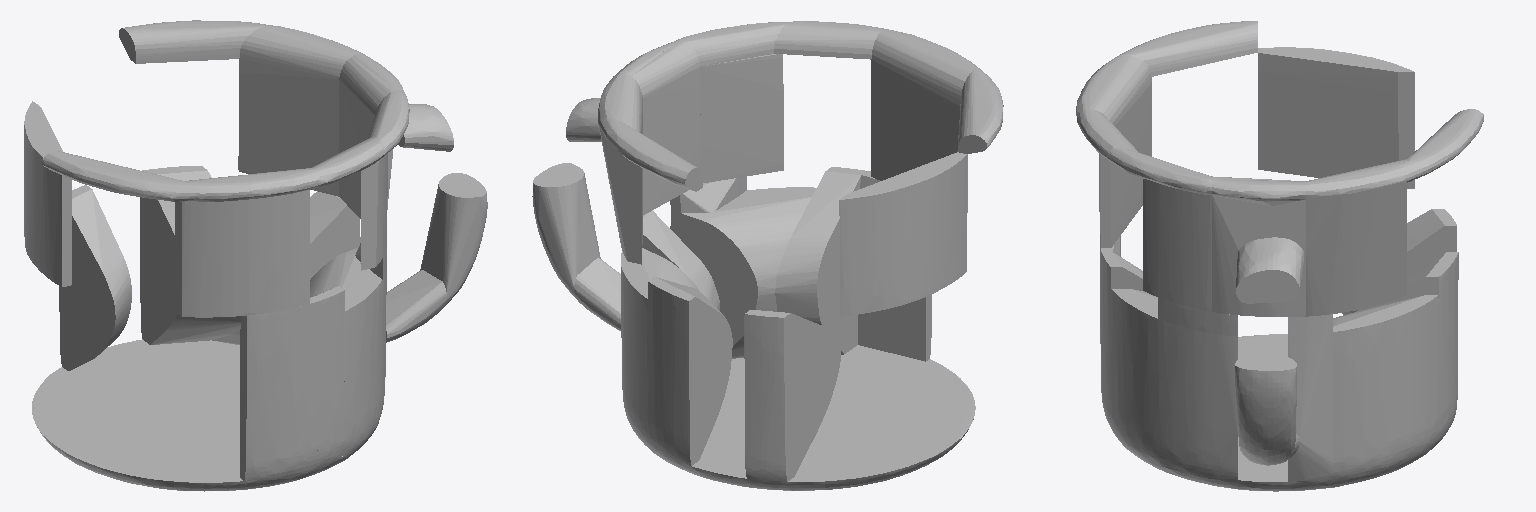
--- What the picture shows (computed from the rendered views, not written in the file) ---
Views: 3 orthographic renders of the robot side by side, from view 1: azimuth 30°, elevation 25°; view 2: azimuth 150°, elevation 25°; view 3: azimuth 270°, elevation 25°.
Model root with 42 links and 41 joints (41 fixed), rooted at link_coacd_convex_piece_0, posed all joints at 0.
Links seen in each view (by area): view 1: link_coacd_convex_piece_4, link_coacd_convex_piece_12, link_coacd_convex_piece_2, link_coacd_convex_piece_27, link_coacd_convex_piece_17, link_coacd_convex_piece_35, link_coacd_convex_piece_36, link_coacd_convex_piece_13, link_coacd_convex_piece_1, link_coacd_convex_piece_9, link_coacd_convex_piece_28, link_coacd_convex_piece_16 (+9 smaller); view 2: link_coacd_convex_piece_4, link_coacd_convex_piece_13, link_coacd_convex_piece_17, link_coacd_convex_piece_36, link_coacd_convex_piece_35, link_coacd_convex_piece_22, link_coacd_convex_piece_28, link_coacd_convex_piece_12, link_coacd_convex_piece_16, link_coacd_convex_piece_1, link_coacd_convex_piece_15, link_coacd_convex_piece_2 (+10 smaller); view 3: link_coacd_convex_piece_35, link_coacd_convex_piece_13, link_coacd_convex_piece_15, link_coacd_convex_piece_2, link_coacd_convex_piece_22, link_coacd_convex_piece_16, link_coacd_convex_piece_31, link_coacd_convex_piece_1, link_coacd_convex_piece_36, link_coacd_convex_piece_12, link_coacd_convex_piece_7, link_coacd_convex_piece_4 (+9 smaller).
Boxes of the visible links, x1,y1,x2,y2 form: link_coacd_convex_piece_4: [32, 339, 378, 491]; link_coacd_convex_piece_12: [175, 190, 309, 317]; link_coacd_convex_piece_2: [238, 26, 364, 196]; link_coacd_convex_piece_27: [240, 297, 317, 480]; link_coacd_convex_piece_17: [59, 185, 131, 370]; link_coacd_convex_piece_35: [310, 248, 386, 455]; link_coacd_convex_piece_36: [140, 166, 240, 344]; link_coacd_convex_piece_13: [24, 101, 71, 286]; link_coacd_convex_piece_1: [420, 173, 487, 305]; link_coacd_convex_piece_9: [119, 20, 272, 63]; link_coacd_convex_piece_28: [313, 286, 344, 466]; link_coacd_convex_piece_16: [339, 58, 396, 218]; link_coacd_convex_piece_4: [632, 345, 975, 490]; link_coacd_convex_piece_13: [839, 152, 966, 316]; link_coacd_convex_piece_17: [744, 310, 840, 481]; link_coacd_convex_piece_36: [648, 277, 732, 466]; link_coacd_convex_piece_35: [670, 187, 815, 358]; link_coacd_convex_piece_22: [700, 54, 783, 182]; link_coacd_convex_piece_28: [775, 167, 866, 354]; link_coacd_convex_piece_12: [871, 59, 967, 212]; link_coacd_convex_piece_16: [631, 41, 700, 214]; link_coacd_convex_piece_1: [532, 163, 600, 296]; link_coacd_convex_piece_15: [621, 248, 700, 445]; link_coacd_convex_piece_2: [598, 72, 642, 264]; link_coacd_convex_piece_35: [1111, 289, 1237, 480]; link_coacd_convex_piece_13: [1258, 47, 1414, 188]; link_coacd_convex_piece_15: [1333, 295, 1438, 478]; link_coacd_convex_piece_2: [1306, 159, 1406, 316]; link_coacd_convex_piece_22: [1143, 179, 1211, 311]; link_coacd_convex_piece_16: [1212, 176, 1305, 316]; link_coacd_convex_piece_31: [1288, 314, 1332, 481]; link_coacd_convex_piece_1: [1235, 353, 1296, 464]; link_coacd_convex_piece_36: [1356, 252, 1458, 443]; link_coacd_convex_piece_12: [1099, 77, 1151, 247]; link_coacd_convex_piece_7: [1119, 21, 1257, 76]; link_coacd_convex_piece_4: [1113, 334, 1451, 491].
Bounding box of the posed robot: 0.1176 × 0.0938 × 0.0824 m (x, y, z).
23 mesh visuals loaded from 42 distinct referenced files (23 OBJ); not drawn: 19 (reference not matched to a file when rendering).

robot.urdf — root:
<robot name="root">
  <link name="link_coacd_convex_piece_0">
    <inertial>
      <origin xyz="0 0 0" rpy="0 0 0"/>
      <inertia ixx="3.00E-10" ixy="9.89E-11" ixz="8.61E-10" iyy="1.54E-09" iyz="-4.27E-11" izz="1.27E-09"/>
    </inertial>
    <visual>
      <origin xyz="0 0 0" rpy="0 0 0"/>
      <geometry>
        <mesh filename="coacd_convex_piece_0.obj" scale="1.0000E+00 1.0000E+00 1.0000E+00"/>
      </geometry>
      <material name="">
        <color rgba="7.50E-01 7.50E-01 7.50E-01 1"/>
      </material>
    </visual>
    <collision>
      <origin xyz="0 0 0" rpy="0 0 0"/>
      <geometry>
        <mesh filename="coacd_convex_piece_0.obj" scale="1.0000E+00 1.0000E+00 1.0000E+00"/>
      </geometry>
    </collision>
  </link>
  <link name="link_coacd_convex_piece_1">
    <inertial>
      <origin xyz="0 0 0" rpy="0 0 0"/>
      <inertia ixx="-1.17E-10" ixy="3.14E-10" ixz="8.11E-10" iyy="4.69E-09" iyz="-1.59E-11" izz="4.89E-09"/>
    </inertial>
    <visual>
      <origin xyz="0 0 0" rpy="0 0 0"/>
      <geometry>
        <mesh filename="coacd_convex_piece_1.obj" scale="1.0000E+00 1.0000E+00 1.0000E+00"/>
      </geometry>
      <material name="">
        <color rgba="7.50E-01 7.50E-01 7.50E-01 1"/>
      </material>
    </visual>
    <collision>
      <origin xyz="0 0 0" rpy="0 0 0"/>
      <geometry>
        <mesh filename="coacd_convex_piece_1.obj" scale="1.0000E+00 1.0000E+00 1.0000E+00"/>
      </geometry>
    </collision>
  </link>
  <joint name="link_coacd_convex_piece_1_joint" type="fixed">
    <origin xyz="0 0 0" rpy="0 0 0"/>
    <parent link="link_coacd_convex_piece_0"/>
    <child link="link_coacd_convex_piece_1"/>
  </joint>
  <link name="link_coacd_convex_piece_2">
    <inertial>
      <origin xyz="0 0 0" rpy="0 0 0"/>
      <inertia ixx="3.77E-09" ixy="-1.67E-09" ixz="-1.97E-09" iyy="4.28E-09" iyz="-1.82E-09" izz="3.54E-09"/>
    </inertial>
    <visual>
      <origin xyz="0 0 0" rpy="0 0 0"/>
      <geometry>
        <mesh filename="coacd_convex_piece_2.obj" scale="1.0000E+00 1.0000E+00 1.0000E+00"/>
      </geometry>
      <material name="">
        <color rgba="7.50E-01 7.50E-01 7.50E-01 1"/>
      </material>
    </visual>
    <collision>
      <origin xyz="0 0 0" rpy="0 0 0"/>
      <geometry>
        <mesh filename="coacd_convex_piece_2.obj" scale="1.0000E+00 1.0000E+00 1.0000E+00"/>
      </geometry>
    </collision>
  </link>
  <joint name="link_coacd_convex_piece_2_joint" type="fixed">
    <origin xyz="0 0 0" rpy="0 0 0"/>
    <parent link="link_coacd_convex_piece_1"/>
    <child link="link_coacd_convex_piece_2"/>
  </joint>
  <link name="link_coacd_convex_piece_3">
    <inertial>
      <origin xyz="0 0 0" rpy="0 0 0"/>
      <inertia ixx="1.20E-08" ixy="5.54E-09" ixz="4.61E-09" iyy="6.96E-09" iyz="-5.71E-09" izz="1.22E-08"/>
    </inertial>
    <visual>
      <origin xyz="0 0 0" rpy="0 0 0"/>
      <geometry>
        <mesh filename="coacd_convex_piece_3.obj" scale="1.0000E+00 1.0000E+00 1.0000E+00"/>
      </geometry>
      <material name="">
        <color rgba="7.50E-01 7.50E-01 7.50E-01 1"/>
      </material>
    </visual>
    <collision>
      <origin xyz="0 0 0" rpy="0 0 0"/>
      <geometry>
        <mesh filename="coacd_convex_piece_3.obj" scale="1.0000E+00 1.0000E+00 1.0000E+00"/>
      </geometry>
    </collision>
  </link>
  <joint name="link_coacd_convex_piece_3_joint" type="fixed">
    <origin xyz="0 0 0" rpy="0 0 0"/>
    <parent link="link_coacd_convex_piece_2"/>
    <child link="link_coacd_convex_piece_3"/>
  </joint>
  <link name="link_coacd_convex_piece_4">
    <inertial>
      <origin xyz="0 0 0" rpy="0 0 0"/>
      <inertia ixx="2.31E-08" ixy="1.20E-10" ixz="-4.33E-09" iyy="2.35E-08" iyz="1.47E-10" izz="1.06E-08"/>
    </inertial>
    <visual>
      <origin xyz="0 0 0" rpy="0 0 0"/>
      <geometry>
        <mesh filename="coacd_convex_piece_4.obj" scale="1.0000E+00 1.0000E+00 1.0000E+00"/>
      </geometry>
      <material name="">
        <color rgba="7.50E-01 7.50E-01 7.50E-01 1"/>
      </material>
    </visual>
    <collision>
      <origin xyz="0 0 0" rpy="0 0 0"/>
      <geometry>
        <mesh filename="coacd_convex_piece_4.obj" scale="1.0000E+00 1.0000E+00 1.0000E+00"/>
      </geometry>
    </collision>
  </link>
  <joint name="link_coacd_convex_piece_4_joint" type="fixed">
    <origin xyz="0 0 0" rpy="0 0 0"/>
    <parent link="link_coacd_convex_piece_3"/>
    <child link="link_coacd_convex_piece_4"/>
  </joint>
  <link name="link_coacd_convex_piece_5">
    <inertial>
      <origin xyz="0 0 0" rpy="0 0 0"/>
      <inertia ixx="1.71E-10" ixy="-1.49E-10" ixz="2.52E-11" iyy="3.42E-11" iyz="-2.83E-11" izz="3.24E-10"/>
    </inertial>
    <visual>
      <origin xyz="0 0 0" rpy="0 0 0"/>
      <geometry>
        <mesh filename="coacd_convex_piece_5.obj" scale="1.0000E+00 1.0000E+00 1.0000E+00"/>
      </geometry>
      <material name="">
        <color rgba="7.50E-01 7.50E-01 7.50E-01 1"/>
      </material>
    </visual>
    <collision>
      <origin xyz="0 0 0" rpy="0 0 0"/>
      <geometry>
        <mesh filename="coacd_convex_piece_5.obj" scale="1.0000E+00 1.0000E+00 1.0000E+00"/>
      </geometry>
    </collision>
  </link>
  <joint name="link_coacd_convex_piece_5_joint" type="fixed">
    <origin xyz="0 0 0" rpy="0 0 0"/>
    <parent link="link_coacd_convex_piece_4"/>
    <child link="link_coacd_convex_piece_5"/>
  </joint>
  <link name="link_coacd_convex_piece_6">
    <inertial>
      <origin xyz="0 0 0" rpy="0 0 0"/>
      <inertia ixx="2.98E-09" ixy="-2.11E-10" ixz="1.03E-10" iyy="4.88E-10" iyz="-1.34E-09" izz="2.33E-09"/>
    </inertial>
    <visual>
      <origin xyz="0 0 0" rpy="0 0 0"/>
      <geometry>
        <mesh filename="coacd_convex_piece_6.obj" scale="1.0000E+00 1.0000E+00 1.0000E+00"/>
      </geometry>
      <material name="">
        <color rgba="7.50E-01 7.50E-01 7.50E-01 1"/>
      </material>
    </visual>
    <collision>
      <origin xyz="0 0 0" rpy="0 0 0"/>
      <geometry>
        <mesh filename="coacd_convex_piece_6.obj" scale="1.0000E+00 1.0000E+00 1.0000E+00"/>
      </geometry>
    </collision>
  </link>
  <joint name="link_coacd_convex_piece_6_joint" type="fixed">
    <origin xyz="0 0 0" rpy="0 0 0"/>
    <parent link="link_coacd_convex_piece_5"/>
    <child link="link_coacd_convex_piece_6"/>
  </joint>
  <link name="link_coacd_convex_piece_7">
    <inertial>
      <origin xyz="0 0 0" rpy="0 0 0"/>
      <inertia ixx="1.55E-09" ixy="-8.05E-10" ixz="1.68E-09" iyy="2.99E-09" iyz="6.91E-10" izz="2.29E-09"/>
    </inertial>
    <visual>
      <origin xyz="0 0 0" rpy="0 0 0"/>
      <geometry>
        <mesh filename="coacd_convex_piece_7.obj" scale="1.0000E+00 1.0000E+00 1.0000E+00"/>
      </geometry>
      <material name="">
        <color rgba="7.50E-01 7.50E-01 7.50E-01 1"/>
      </material>
    </visual>
    <collision>
      <origin xyz="0 0 0" rpy="0 0 0"/>
      <geometry>
        <mesh filename="coacd_convex_piece_7.obj" scale="1.0000E+00 1.0000E+00 1.0000E+00"/>
      </geometry>
    </collision>
  </link>
  <joint name="link_coacd_convex_piece_7_joint" type="fixed">
    <origin xyz="0 0 0" rpy="0 0 0"/>
    <parent link="link_coacd_convex_piece_6"/>
    <child link="link_coacd_convex_piece_7"/>
  </joint>
  <link name="link_coacd_convex_piece_8">
    <inertial>
      <origin xyz="0 0 0" rpy="0 0 0"/>
      <inertia ixx="1.74E-09" ixy="-1.96E-09" ixz="2.60E-09" iyy="5.62E-09" iyz="9.51E-10" izz="5.78E-09"/>
    </inertial>
    <visual>
      <origin xyz="0 0 0" rpy="0 0 0"/>
      <geometry>
        <mesh filename="coacd_convex_piece_8.obj" scale="1.0000E+00 1.0000E+00 1.0000E+00"/>
      </geometry>
      <material name="">
        <color rgba="7.50E-01 7.50E-01 7.50E-01 1"/>
      </material>
    </visual>
    <collision>
      <origin xyz="0 0 0" rpy="0 0 0"/>
      <geometry>
        <mesh filename="coacd_convex_piece_8.obj" scale="1.0000E+00 1.0000E+00 1.0000E+00"/>
      </geometry>
    </collision>
  </link>
  <joint name="link_coacd_convex_piece_8_joint" type="fixed">
    <origin xyz="0 0 0" rpy="0 0 0"/>
    <parent link="link_coacd_convex_piece_7"/>
    <child link="link_coacd_convex_piece_8"/>
  </joint>
  <link name="link_coacd_convex_piece_9">
    <inertial>
      <origin xyz="0 0 0" rpy="0 0 0"/>
      <inertia ixx="2.33E-09" ixy="-1.65E-10" ixz="-8.42E-11" iyy="1.11E-09" iyz="-1.23E-09" izz="1.22E-09"/>
    </inertial>
    <visual>
      <origin xyz="0 0 0" rpy="0 0 0"/>
      <geometry>
        <mesh filename="coacd_convex_piece_9.obj" scale="1.0000E+00 1.0000E+00 1.0000E+00"/>
      </geometry>
      <material name="">
        <color rgba="7.50E-01 7.50E-01 7.50E-01 1"/>
      </material>
    </visual>
    <collision>
      <origin xyz="0 0 0" rpy="0 0 0"/>
      <geometry>
        <mesh filename="coacd_convex_piece_9.obj" scale="1.0000E+00 1.0000E+00 1.0000E+00"/>
      </geometry>
    </collision>
  </link>
  <joint name="link_coacd_convex_piece_9_joint" type="fixed">
    <origin xyz="0 0 0" rpy="0 0 0"/>
    <parent link="link_coacd_convex_piece_8"/>
    <child link="link_coacd_convex_piece_9"/>
  </joint>
  <link name="link_coacd_convex_piece_10">
    <inertial>
      <origin xyz="0 0 0" rpy="0 0 0"/>
      <inertia ixx="2.28E-09" ixy="-7.06E-10" ixz="8.14E-10" iyy="1.43E-09" iyz="1.21E-09" izz="1.64E-09"/>
    </inertial>
    <visual>
      <origin xyz="0 0 0" rpy="0 0 0"/>
      <geometry>
        <mesh filename="coacd_convex_piece_10.obj" scale="1.0000E+00 1.0000E+00 1.0000E+00"/>
      </geometry>
      <material name="">
        <color rgba="7.50E-01 7.50E-01 7.50E-01 1"/>
      </material>
    </visual>
    <collision>
      <origin xyz="0 0 0" rpy="0 0 0"/>
      <geometry>
        <mesh filename="coacd_convex_piece_10.obj" scale="1.0000E+00 1.0000E+00 1.0000E+00"/>
      </geometry>
    </collision>
  </link>
  <joint name="link_coacd_convex_piece_10_joint" type="fixed">
    <origin xyz="0 0 0" rpy="0 0 0"/>
    <parent link="link_coacd_convex_piece_9"/>
    <child link="link_coacd_convex_piece_10"/>
  </joint>
  <link name="link_coacd_convex_piece_11">
    <inertial>
      <origin xyz="0 0 0" rpy="0 0 0"/>
      <inertia ixx="1.85E-09" ixy="7.76E-10" ixz="2.34E-09" iyy="4.22E-09" iyz="-6.17E-10" izz="3.08E-09"/>
    </inertial>
    <visual>
      <origin xyz="0 0 0" rpy="0 0 0"/>
      <geometry>
        <mesh filename="coacd_convex_piece_11.obj" scale="1.0000E+00 1.0000E+00 1.0000E+00"/>
      </geometry>
      <material name="">
        <color rgba="7.50E-01 7.50E-01 7.50E-01 1"/>
      </material>
    </visual>
    <collision>
      <origin xyz="0 0 0" rpy="0 0 0"/>
      <geometry>
        <mesh filename="coacd_convex_piece_11.obj" scale="1.0000E+00 1.0000E+00 1.0000E+00"/>
      </geometry>
    </collision>
  </link>
  <joint name="link_coacd_convex_piece_11_joint" type="fixed">
    <origin xyz="0 0 0" rpy="0 0 0"/>
    <parent link="link_coacd_convex_piece_10"/>
    <child link="link_coacd_convex_piece_11"/>
  </joint>
  <link name="link_coacd_convex_piece_12">
    <inertial>
      <origin xyz="0 0 0" rpy="0 0 0"/>
      <inertia ixx="4.59E-09" ixy="-2.25E-09" ixz="1.69E-09" iyy="2.27E-09" iyz="2.11E-09" izz="5.03E-09"/>
    </inertial>
    <visual>
      <origin xyz="0 0 0" rpy="0 0 0"/>
      <geometry>
        <mesh filename="coacd_convex_piece_12.obj" scale="1.0000E+00 1.0000E+00 1.0000E+00"/>
      </geometry>
      <material name="">
        <color rgba="7.50E-01 7.50E-01 7.50E-01 1"/>
      </material>
    </visual>
    <collision>
      <origin xyz="0 0 0" rpy="0 0 0"/>
      <geometry>
        <mesh filename="coacd_convex_piece_12.obj" scale="1.0000E+00 1.0000E+00 1.0000E+00"/>
      </geometry>
    </collision>
  </link>
  <joint name="link_coacd_convex_piece_12_joint" type="fixed">
    <origin xyz="0 0 0" rpy="0 0 0"/>
    <parent link="link_coacd_convex_piece_11"/>
    <child link="link_coacd_convex_piece_12"/>
  </joint>
  <link name="link_coacd_convex_piece_13">
    <inertial>
      <origin xyz="0 0 0" rpy="0 0 0"/>
      <inertia ixx="2.02E-09" ixy="2.07E-09" ixz="4.03E-09" iyy="9.04E-09" iyz="-8.90E-10" izz="8.70E-09"/>
    </inertial>
    <visual>
      <origin xyz="0 0 0" rpy="0 0 0"/>
      <geometry>
        <mesh filename="coacd_convex_piece_13.obj" scale="1.0000E+00 1.0000E+00 1.0000E+00"/>
      </geometry>
      <material name="">
        <color rgba="7.50E-01 7.50E-01 7.50E-01 1"/>
      </material>
    </visual>
    <collision>
      <origin xyz="0 0 0" rpy="0 0 0"/>
      <geometry>
        <mesh filename="coacd_convex_piece_13.obj" scale="1.0000E+00 1.0000E+00 1.0000E+00"/>
      </geometry>
    </collision>
  </link>
  <joint name="link_coacd_convex_piece_13_joint" type="fixed">
    <origin xyz="0 0 0" rpy="0 0 0"/>
    <parent link="link_coacd_convex_piece_12"/>
    <child link="link_coacd_convex_piece_13"/>
  </joint>
  <link name="link_coacd_convex_piece_14">
    <inertial>
      <origin xyz="0 0 0" rpy="0 0 0"/>
      <inertia ixx="9.95E-10" ixy="3.22E-10" ixz="1.78E-09" iyy="1.83E-09" iyz="-2.56E-10" izz="1.06E-09"/>
    </inertial>
    <visual>
      <origin xyz="0 0 0" rpy="0 0 0"/>
      <geometry>
        <mesh filename="coacd_convex_piece_14.obj" scale="1.0000E+00 1.0000E+00 1.0000E+00"/>
      </geometry>
      <material name="">
        <color rgba="7.50E-01 7.50E-01 7.50E-01 1"/>
      </material>
    </visual>
    <collision>
      <origin xyz="0 0 0" rpy="0 0 0"/>
      <geometry>
        <mesh filename="coacd_convex_piece_14.obj" scale="1.0000E+00 1.0000E+00 1.0000E+00"/>
      </geometry>
    </collision>
  </link>
  <joint name="link_coacd_convex_piece_14_joint" type="fixed">
    <origin xyz="0 0 0" rpy="0 0 0"/>
    <parent link="link_coacd_convex_piece_13"/>
    <child link="link_coacd_convex_piece_14"/>
  </joint>
  <link name="link_coacd_convex_piece_15">
    <inertial>
      <origin xyz="0 0 0" rpy="0 0 0"/>
      <inertia ixx="4.98E-09" ixy="-2.15E-09" ixz="2.76E-09" iyy="2.73E-09" iyz="2.61E-09" izz="4.56E-09"/>
    </inertial>
    <visual>
      <origin xyz="0 0 0" rpy="0 0 0"/>
      <geometry>
        <mesh filename="coacd_convex_piece_15.obj" scale="1.0000E+00 1.0000E+00 1.0000E+00"/>
      </geometry>
      <material name="">
        <color rgba="7.50E-01 7.50E-01 7.50E-01 1"/>
      </material>
    </visual>
    <collision>
      <origin xyz="0 0 0" rpy="0 0 0"/>
      <geometry>
        <mesh filename="coacd_convex_piece_15.obj" scale="1.0000E+00 1.0000E+00 1.0000E+00"/>
      </geometry>
    </collision>
  </link>
  <joint name="link_coacd_convex_piece_15_joint" type="fixed">
    <origin xyz="0 0 0" rpy="0 0 0"/>
    <parent link="link_coacd_convex_piece_14"/>
    <child link="link_coacd_convex_piece_15"/>
  </joint>
  <link name="link_coacd_convex_piece_16">
    <inertial>
      <origin xyz="0 0 0" rpy="0 0 0"/>
      <inertia ixx="1.04E-09" ixy="3.21E-10" ixz="-1.00E-09" iyy="2.20E-09" iyz="2.92E-10" izz="1.43E-09"/>
    </inertial>
    <visual>
      <origin xyz="0 0 0" rpy="0 0 0"/>
      <geometry>
        <mesh filename="coacd_convex_piece_16.obj" scale="1.0000E+00 1.0000E+00 1.0000E+00"/>
      </geometry>
      <material name="">
        <color rgba="7.50E-01 7.50E-01 7.50E-01 1"/>
      </material>
    </visual>
    <collision>
      <origin xyz="0 0 0" rpy="0 0 0"/>
      <geometry>
        <mesh filename="coacd_convex_piece_16.obj" scale="1.0000E+00 1.0000E+00 1.0000E+00"/>
      </geometry>
    </collision>
  </link>
  <joint name="link_coacd_convex_piece_16_joint" type="fixed">
    <origin xyz="0 0 0" rpy="0 0 0"/>
    <parent link="link_coacd_convex_piece_15"/>
    <child link="link_coacd_convex_piece_16"/>
  </joint>
  <link name="link_coacd_convex_piece_17">
    <inertial>
      <origin xyz="0 0 0" rpy="0 0 0"/>
      <inertia ixx="4.31E-09" ixy="2.97E-09" ixz="-9.85E-10" iyy="2.72E-09" iyz="1.84E-09" izz="5.80E-09"/>
    </inertial>
    <visual>
      <origin xyz="0 0 0" rpy="0 0 0"/>
      <geometry>
        <mesh filename="coacd_convex_piece_17.obj" scale="1.0000E+00 1.0000E+00 1.0000E+00"/>
      </geometry>
      <material name="">
        <color rgba="7.50E-01 7.50E-01 7.50E-01 1"/>
      </material>
    </visual>
    <collision>
      <origin xyz="0 0 0" rpy="0 0 0"/>
      <geometry>
        <mesh filename="coacd_convex_piece_17.obj" scale="1.0000E+00 1.0000E+00 1.0000E+00"/>
      </geometry>
    </collision>
  </link>
  <joint name="link_coacd_convex_piece_17_joint" type="fixed">
    <origin xyz="0 0 0" rpy="0 0 0"/>
    <parent link="link_coacd_convex_piece_16"/>
    <child link="link_coacd_convex_piece_17"/>
  </joint>
  <link name="link_coacd_convex_piece_18">
    <inertial>
      <origin xyz="0 0 0" rpy="0 0 0"/>
      <inertia ixx="1.43E-09" ixy="4.83E-11" ixz="1.71E-11" iyy="6.21E-10" iyz="7.63E-10" izz="7.53E-10"/>
    </inertial>
    <visual>
      <origin xyz="0 0 0" rpy="0 0 0"/>
      <geometry>
        <mesh filename="coacd_convex_piece_18.obj" scale="1.0000E+00 1.0000E+00 1.0000E+00"/>
      </geometry>
      <material name="">
        <color rgba="7.50E-01 7.50E-01 7.50E-01 1"/>
      </material>
    </visual>
    <collision>
      <origin xyz="0 0 0" rpy="0 0 0"/>
      <geometry>
        <mesh filename="coacd_convex_piece_18.obj" scale="1.0000E+00 1.0000E+00 1.0000E+00"/>
      </geometry>
    </collision>
  </link>
  <joint name="link_coacd_convex_piece_18_joint" type="fixed">
    <origin xyz="0 0 0" rpy="0 0 0"/>
    <parent link="link_coacd_convex_piece_17"/>
    <child link="link_coacd_convex_piece_18"/>
  </joint>
  <link name="link_coacd_convex_piece_19">
    <inertial>
      <origin xyz="0 0 0" rpy="0 0 0"/>
      <inertia ixx="2.03E-09" ixy="-2.63E-09" ixz="-3.72E-09" iyy="1.31E-08" iyz="-9.77E-10" izz="1.25E-08"/>
    </inertial>
    <visual>
      <origin xyz="0 0 0" rpy="0 0 0"/>
      <geometry>
        <mesh filename="coacd_convex_piece_19.obj" scale="1.0000E+00 1.0000E+00 1.0000E+00"/>
      </geometry>
      <material name="">
        <color rgba="7.50E-01 7.50E-01 7.50E-01 1"/>
      </material>
    </visual>
    <collision>
      <origin xyz="0 0 0" rpy="0 0 0"/>
      <geometry>
        <mesh filename="coacd_convex_piece_19.obj" scale="1.0000E+00 1.0000E+00 1.0000E+00"/>
      </geometry>
    </collision>
  </link>
  <joint name="link_coacd_convex_piece_19_joint" type="fixed">
    <origin xyz="0 0 0" rpy="0 0 0"/>
    <parent link="link_coacd_convex_piece_18"/>
    <child link="link_coacd_convex_piece_19"/>
  </joint>
  <link name="link_coacd_convex_piece_20">
    <inertial>
      <origin xyz="0 0 0" rpy="0 0 0"/>
      <inertia ixx="1.03E-09" ixy="2.76E-10" ixz="-3.49E-10" iyy="8.51E-10" iyz="5.16E-10" izz="5.55E-10"/>
    </inertial>
    <visual>
      <origin xyz="0 0 0" rpy="0 0 0"/>
      <geometry>
        <mesh filename="coacd_convex_piece_20.obj" scale="1.0000E+00 1.0000E+00 1.0000E+00"/>
      </geometry>
      <material name="">
        <color rgba="7.50E-01 7.50E-01 7.50E-01 1"/>
      </material>
    </visual>
    <collision>
      <origin xyz="0 0 0" rpy="0 0 0"/>
      <geometry>
        <mesh filename="coacd_convex_piece_20.obj" scale="1.0000E+00 1.0000E+00 1.0000E+00"/>
      </geometry>
    </collision>
  </link>
  <joint name="link_coacd_convex_piece_20_joint" type="fixed">
    <origin xyz="0 0 0" rpy="0 0 0"/>
    <parent link="link_coacd_convex_piece_19"/>
    <child link="link_coacd_convex_piece_20"/>
  </joint>
  <link name="link_coacd_convex_piece_21">
    <inertial>
      <origin xyz="0 0 0" rpy="0 0 0"/>
      <inertia ixx="7.34E-09" ixy="2.54E-09" ixz="-3.95E-10" iyy="1.45E-09" iyz="2.97E-09" izz="6.93E-09"/>
    </inertial>
    <visual>
      <origin xyz="0 0 0" rpy="0 0 0"/>
      <geometry>
        <mesh filename="coacd_convex_piece_21.obj" scale="1.0000E+00 1.0000E+00 1.0000E+00"/>
      </geometry>
      <material name="">
        <color rgba="7.50E-01 7.50E-01 7.50E-01 1"/>
      </material>
    </visual>
    <collision>
      <origin xyz="0 0 0" rpy="0 0 0"/>
      <geometry>
        <mesh filename="coacd_convex_piece_21.obj" scale="1.0000E+00 1.0000E+00 1.0000E+00"/>
      </geometry>
    </collision>
  </link>
  <joint name="link_coacd_convex_piece_21_joint" type="fixed">
    <origin xyz="0 0 0" rpy="0 0 0"/>
    <parent link="link_coacd_convex_piece_20"/>
    <child link="link_coacd_convex_piece_21"/>
  </joint>
  <link name="link_coacd_convex_piece_22">
    <inertial>
      <origin xyz="0 0 0" rpy="0 0 0"/>
      <inertia ixx="1.29E-09" ixy="6.32E-10" ixz="-3.71E-10" iyy="8.47E-10" iyz="7.06E-10" izz="1.22E-09"/>
    </inertial>
    <visual>
      <origin xyz="0 0 0" rpy="0 0 0"/>
      <geometry>
        <mesh filename="coacd_convex_piece_22.obj" scale="1.0000E+00 1.0000E+00 1.0000E+00"/>
      </geometry>
      <material name="">
        <color rgba="7.50E-01 7.50E-01 7.50E-01 1"/>
      </material>
    </visual>
    <collision>
      <origin xyz="0 0 0" rpy="0 0 0"/>
      <geometry>
        <mesh filename="coacd_convex_piece_22.obj" scale="1.0000E+00 1.0000E+00 1.0000E+00"/>
      </geometry>
    </collision>
  </link>
  <joint name="link_coacd_convex_piece_22_joint" type="fixed">
    <origin xyz="0 0 0" rpy="0 0 0"/>
    <parent link="link_coacd_convex_piece_21"/>
    <child link="link_coacd_convex_piece_22"/>
  </joint>
  <link name="link_coacd_convex_piece_23">
    <inertial>
      <origin xyz="0 0 0" rpy="0 0 0"/>
      <inertia ixx="1.91E-09" ixy="2.24E-09" ixz="-4.24E-09" iyy="1.54E-08" iyz="8.82E-10" izz="1.45E-08"/>
    </inertial>
    <visual>
      <origin xyz="0 0 0" rpy="0 0 0"/>
      <geometry>
        <mesh filename="coacd_convex_piece_23.obj" scale="1.0000E+00 1.0000E+00 1.0000E+00"/>
      </geometry>
      <material name="">
        <color rgba="7.50E-01 7.50E-01 7.50E-01 1"/>
      </material>
    </visual>
    <collision>
      <origin xyz="0 0 0" rpy="0 0 0"/>
      <geometry>
        <mesh filename="coacd_convex_piece_23.obj" scale="1.0000E+00 1.0000E+00 1.0000E+00"/>
      </geometry>
    </collision>
  </link>
  <joint name="link_coacd_convex_piece_23_joint" type="fixed">
    <origin xyz="0 0 0" rpy="0 0 0"/>
    <parent link="link_coacd_convex_piece_22"/>
    <child link="link_coacd_convex_piece_23"/>
  </joint>
  <link name="link_coacd_convex_piece_24">
    <inertial>
      <origin xyz="0 0 0" rpy="0 0 0"/>
      <inertia ixx="3.40E-10" ixy="9.11E-11" ixz="-7.09E-10" iyy="1.71E-09" iyz="5.53E-11" izz="1.40E-09"/>
    </inertial>
    <visual>
      <origin xyz="0 0 0" rpy="0 0 0"/>
      <geometry>
        <mesh filename="coacd_convex_piece_24.obj" scale="1.0000E+00 1.0000E+00 1.0000E+00"/>
      </geometry>
      <material name="">
        <color rgba="7.50E-01 7.50E-01 7.50E-01 1"/>
      </material>
    </visual>
    <collision>
      <origin xyz="0 0 0" rpy="0 0 0"/>
      <geometry>
        <mesh filename="coacd_convex_piece_24.obj" scale="1.0000E+00 1.0000E+00 1.0000E+00"/>
      </geometry>
    </collision>
  </link>
  <joint name="link_coacd_convex_piece_24_joint" type="fixed">
    <origin xyz="0 0 0" rpy="0 0 0"/>
    <parent link="link_coacd_convex_piece_23"/>
    <child link="link_coacd_convex_piece_24"/>
  </joint>
  <link name="link_coacd_convex_piece_25">
    <inertial>
      <origin xyz="0 0 0" rpy="0 0 0"/>
      <inertia ixx="2.55E-09" ixy="1.40E-10" ixz="1.15E-10" iyy="4.19E-10" iyz="1.18E-09" izz="1.95E-09"/>
    </inertial>
    <visual>
      <origin xyz="0 0 0" rpy="0 0 0"/>
      <geometry>
        <mesh filename="coacd_convex_piece_25.obj" scale="1.0000E+00 1.0000E+00 1.0000E+00"/>
      </geometry>
      <material name="">
        <color rgba="7.50E-01 7.50E-01 7.50E-01 1"/>
      </material>
    </visual>
    <collision>
      <origin xyz="0 0 0" rpy="0 0 0"/>
      <geometry>
        <mesh filename="coacd_convex_piece_25.obj" scale="1.0000E+00 1.0000E+00 1.0000E+00"/>
      </geometry>
    </collision>
  </link>
  <joint name="link_coacd_convex_piece_25_joint" type="fixed">
    <origin xyz="0 0 0" rpy="0 0 0"/>
    <parent link="link_coacd_convex_piece_24"/>
    <child link="link_coacd_convex_piece_25"/>
  </joint>
  <link name="link_coacd_convex_piece_26">
    <inertial>
      <origin xyz="0 0 0" rpy="0 0 0"/>
      <inertia ixx="8.94E-11" ixy="1.94E-10" ixz="-7.20E-10" iyy="3.21E-09" iyz="6.08E-11" izz="3.18E-09"/>
    </inertial>
    <visual>
      <origin xyz="0 0 0" rpy="0 0 0"/>
      <geometry>
        <mesh filename="coacd_convex_piece_26.obj" scale="1.0000E+00 1.0000E+00 1.0000E+00"/>
      </geometry>
      <material name="">
        <color rgba="7.50E-01 7.50E-01 7.50E-01 1"/>
      </material>
    </visual>
    <collision>
      <origin xyz="0 0 0" rpy="0 0 0"/>
      <geometry>
        <mesh filename="coacd_convex_piece_26.obj" scale="1.0000E+00 1.0000E+00 1.0000E+00"/>
      </geometry>
    </collision>
  </link>
  <joint name="link_coacd_convex_piece_26_joint" type="fixed">
    <origin xyz="0 0 0" rpy="0 0 0"/>
    <parent link="link_coacd_convex_piece_25"/>
    <child link="link_coacd_convex_piece_26"/>
  </joint>
  <link name="link_coacd_convex_piece_27">
    <inertial>
      <origin xyz="0 0 0" rpy="0 0 0"/>
      <inertia ixx="3.47E-09" ixy="-1.12E-09" ixz="-1.74E-10" iyy="6.77E-10" iyz="-1.17E-09" izz="3.33E-09"/>
    </inertial>
    <visual>
      <origin xyz="0 0 0" rpy="0 0 0"/>
      <geometry>
        <mesh filename="coacd_convex_piece_27.obj" scale="1.0000E+00 1.0000E+00 1.0000E+00"/>
      </geometry>
      <material name="">
        <color rgba="7.50E-01 7.50E-01 7.50E-01 1"/>
      </material>
    </visual>
    <collision>
      <origin xyz="0 0 0" rpy="0 0 0"/>
      <geometry>
        <mesh filename="coacd_convex_piece_27.obj" scale="1.0000E+00 1.0000E+00 1.0000E+00"/>
      </geometry>
    </collision>
  </link>
  <joint name="link_coacd_convex_piece_27_joint" type="fixed">
    <origin xyz="0 0 0" rpy="0 0 0"/>
    <parent link="link_coacd_convex_piece_26"/>
    <child link="link_coacd_convex_piece_27"/>
  </joint>
  <link name="link_coacd_convex_piece_28">
    <inertial>
      <origin xyz="0 0 0" rpy="0 0 0"/>
      <inertia ixx="4.74E-09" ixy="-1.82E-10" ixz="4.32E-10" iyy="5.15E-10" iyz="-2.01E-09" izz="3.47E-09"/>
    </inertial>
    <visual>
      <origin xyz="0 0 0" rpy="0 0 0"/>
      <geometry>
        <mesh filename="coacd_convex_piece_28.obj" scale="1.0000E+00 1.0000E+00 1.0000E+00"/>
      </geometry>
      <material name="">
        <color rgba="7.50E-01 7.50E-01 7.50E-01 1"/>
      </material>
    </visual>
    <collision>
      <origin xyz="0 0 0" rpy="0 0 0"/>
      <geometry>
        <mesh filename="coacd_convex_piece_28.obj" scale="1.0000E+00 1.0000E+00 1.0000E+00"/>
      </geometry>
    </collision>
  </link>
  <joint name="link_coacd_convex_piece_28_joint" type="fixed">
    <origin xyz="0 0 0" rpy="0 0 0"/>
    <parent link="link_coacd_convex_piece_27"/>
    <child link="link_coacd_convex_piece_28"/>
  </joint>
  <link name="link_coacd_convex_piece_29">
    <inertial>
      <origin xyz="0 0 0" rpy="0 0 0"/>
      <inertia ixx="7.04E-09" ixy="-2.81E-09" ixz="-9.08E-10" iyy="2.56E-09" iyz="-3.31E-09" izz="6.59E-09"/>
    </inertial>
    <visual>
      <origin xyz="0 0 0" rpy="0 0 0"/>
      <geometry>
        <mesh filename="coacd_convex_piece_29.obj" scale="1.0000E+00 1.0000E+00 1.0000E+00"/>
      </geometry>
      <material name="">
        <color rgba="7.50E-01 7.50E-01 7.50E-01 1"/>
      </material>
    </visual>
    <collision>
      <origin xyz="0 0 0" rpy="0 0 0"/>
      <geometry>
        <mesh filename="coacd_convex_piece_29.obj" scale="1.0000E+00 1.0000E+00 1.0000E+00"/>
      </geometry>
    </collision>
  </link>
  <joint name="link_coacd_convex_piece_29_joint" type="fixed">
    <origin xyz="0 0 0" rpy="0 0 0"/>
    <parent link="link_coacd_convex_piece_28"/>
    <child link="link_coacd_convex_piece_29"/>
  </joint>
  <link name="link_coacd_convex_piece_30">
    <inertial>
      <origin xyz="0 0 0" rpy="0 0 0"/>
      <inertia ixx="1.96E-10" ixy="2.65E-11" ixz="-2.82E-10" iyy="5.88E-10" iyz="2.20E-11" izz="4.07E-10"/>
    </inertial>
    <visual>
      <origin xyz="0 0 0" rpy="0 0 0"/>
      <geometry>
        <mesh filename="coacd_convex_piece_30.obj" scale="1.0000E+00 1.0000E+00 1.0000E+00"/>
      </geometry>
      <material name="">
        <color rgba="7.50E-01 7.50E-01 7.50E-01 1"/>
      </material>
    </visual>
    <collision>
      <origin xyz="0 0 0" rpy="0 0 0"/>
      <geometry>
        <mesh filename="coacd_convex_piece_30.obj" scale="1.0000E+00 1.0000E+00 1.0000E+00"/>
      </geometry>
    </collision>
  </link>
  <joint name="link_coacd_convex_piece_30_joint" type="fixed">
    <origin xyz="0 0 0" rpy="0 0 0"/>
    <parent link="link_coacd_convex_piece_29"/>
    <child link="link_coacd_convex_piece_30"/>
  </joint>
  <link name="link_coacd_convex_piece_31">
    <inertial>
      <origin xyz="0 0 0" rpy="0 0 0"/>
      <inertia ixx="1.18E-09" ixy="-6.08E-10" ixz="2.17E-09" iyy="2.53E-09" iyz="5.76E-10" izz="1.88E-09"/>
    </inertial>
    <visual>
      <origin xyz="0 0 0" rpy="0 0 0"/>
      <geometry>
        <mesh filename="coacd_convex_piece_31.obj" scale="1.0000E+00 1.0000E+00 1.0000E+00"/>
      </geometry>
      <material name="">
        <color rgba="7.50E-01 7.50E-01 7.50E-01 1"/>
      </material>
    </visual>
    <collision>
      <origin xyz="0 0 0" rpy="0 0 0"/>
      <geometry>
        <mesh filename="coacd_convex_piece_31.obj" scale="1.0000E+00 1.0000E+00 1.0000E+00"/>
      </geometry>
    </collision>
  </link>
  <joint name="link_coacd_convex_piece_31_joint" type="fixed">
    <origin xyz="0 0 0" rpy="0 0 0"/>
    <parent link="link_coacd_convex_piece_30"/>
    <child link="link_coacd_convex_piece_31"/>
  </joint>
  <link name="link_coacd_convex_piece_32">
    <inertial>
      <origin xyz="0 0 0" rpy="0 0 0"/>
      <inertia ixx="3.27E-10" ixy="2.92E-11" ixz="-2.63E-10" iyy="5.36E-10" iyz="3.61E-11" izz="2.30E-10"/>
    </inertial>
    <visual>
      <origin xyz="0 0 0" rpy="0 0 0"/>
      <geometry>
        <mesh filename="coacd_convex_piece_32.obj" scale="1.0000E+00 1.0000E+00 1.0000E+00"/>
      </geometry>
      <material name="">
        <color rgba="7.50E-01 7.50E-01 7.50E-01 1"/>
      </material>
    </visual>
    <collision>
      <origin xyz="0 0 0" rpy="0 0 0"/>
      <geometry>
        <mesh filename="coacd_convex_piece_32.obj" scale="1.0000E+00 1.0000E+00 1.0000E+00"/>
      </geometry>
    </collision>
  </link>
  <joint name="link_coacd_convex_piece_32_joint" type="fixed">
    <origin xyz="0 0 0" rpy="0 0 0"/>
    <parent link="link_coacd_convex_piece_31"/>
    <child link="link_coacd_convex_piece_32"/>
  </joint>
  <link name="link_coacd_convex_piece_33">
    <inertial>
      <origin xyz="0 0 0" rpy="0 0 0"/>
      <inertia ixx="2.60E-10" ixy="4.88E-10" ixz="1.26E-10" iyy="6.56E-10" iyz="-3.65E-11" izz="1.07E-09"/>
    </inertial>
    <visual>
      <origin xyz="0 0 0" rpy="0 0 0"/>
      <geometry>
        <mesh filename="coacd_convex_piece_33.obj" scale="1.0000E+00 1.0000E+00 1.0000E+00"/>
      </geometry>
      <material name="">
        <color rgba="7.50E-01 7.50E-01 7.50E-01 1"/>
      </material>
    </visual>
    <collision>
      <origin xyz="0 0 0" rpy="0 0 0"/>
      <geometry>
        <mesh filename="coacd_convex_piece_33.obj" scale="1.0000E+00 1.0000E+00 1.0000E+00"/>
      </geometry>
    </collision>
  </link>
  <joint name="link_coacd_convex_piece_33_joint" type="fixed">
    <origin xyz="0 0 0" rpy="0 0 0"/>
    <parent link="link_coacd_convex_piece_32"/>
    <child link="link_coacd_convex_piece_33"/>
  </joint>
  <link name="link_coacd_convex_piece_34">
    <inertial>
      <origin xyz="0 0 0" rpy="0 0 0"/>
      <inertia ixx="2.89E-10" ixy="-4.36E-10" ixz="1.17E-10" iyy="5.09E-10" iyz="4.98E-11" izz="9.35E-10"/>
    </inertial>
    <visual>
      <origin xyz="0 0 0" rpy="0 0 0"/>
      <geometry>
        <mesh filename="coacd_convex_piece_34.obj" scale="1.0000E+00 1.0000E+00 1.0000E+00"/>
      </geometry>
      <material name="">
        <color rgba="7.50E-01 7.50E-01 7.50E-01 1"/>
      </material>
    </visual>
    <collision>
      <origin xyz="0 0 0" rpy="0 0 0"/>
      <geometry>
        <mesh filename="coacd_convex_piece_34.obj" scale="1.0000E+00 1.0000E+00 1.0000E+00"/>
      </geometry>
    </collision>
  </link>
  <joint name="link_coacd_convex_piece_34_joint" type="fixed">
    <origin xyz="0 0 0" rpy="0 0 0"/>
    <parent link="link_coacd_convex_piece_33"/>
    <child link="link_coacd_convex_piece_34"/>
  </joint>
  <link name="link_coacd_convex_piece_35">
    <inertial>
      <origin xyz="0 0 0" rpy="0 0 0"/>
      <inertia ixx="8.37E-09" ixy="2.90E-09" ixz="4.00E-09" iyy="3.96E-09" iyz="-4.11E-09" izz="6.86E-09"/>
    </inertial>
    <visual>
      <origin xyz="0 0 0" rpy="0 0 0"/>
      <geometry>
        <mesh filename="coacd_convex_piece_35.obj" scale="1.0000E+00 1.0000E+00 1.0000E+00"/>
      </geometry>
      <material name="">
        <color rgba="7.50E-01 7.50E-01 7.50E-01 1"/>
      </material>
    </visual>
    <collision>
      <origin xyz="0 0 0" rpy="0 0 0"/>
      <geometry>
        <mesh filename="coacd_convex_piece_35.obj" scale="1.0000E+00 1.0000E+00 1.0000E+00"/>
      </geometry>
    </collision>
  </link>
  <joint name="link_coacd_convex_piece_35_joint" type="fixed">
    <origin xyz="0 0 0" rpy="0 0 0"/>
    <parent link="link_coacd_convex_piece_34"/>
    <child link="link_coacd_convex_piece_35"/>
  </joint>
  <link name="link_coacd_convex_piece_36">
    <inertial>
      <origin xyz="0 0 0" rpy="0 0 0"/>
      <inertia ixx="6.78E-09" ixy="-1.36E-10" ixz="9.73E-10" iyy="5.41E-10" iyz="2.94E-09" izz="5.17E-09"/>
    </inertial>
    <visual>
      <origin xyz="0 0 0" rpy="0 0 0"/>
      <geometry>
        <mesh filename="coacd_convex_piece_36.obj" scale="1.0000E+00 1.0000E+00 1.0000E+00"/>
      </geometry>
      <material name="">
        <color rgba="7.50E-01 7.50E-01 7.50E-01 1"/>
      </material>
    </visual>
    <collision>
      <origin xyz="0 0 0" rpy="0 0 0"/>
      <geometry>
        <mesh filename="coacd_convex_piece_36.obj" scale="1.0000E+00 1.0000E+00 1.0000E+00"/>
      </geometry>
    </collision>
  </link>
  <joint name="link_coacd_convex_piece_36_joint" type="fixed">
    <origin xyz="0 0 0" rpy="0 0 0"/>
    <parent link="link_coacd_convex_piece_35"/>
    <child link="link_coacd_convex_piece_36"/>
  </joint>
  <link name="link_coacd_convex_piece_37">
    <inertial>
      <origin xyz="0 0 0" rpy="0 0 0"/>
      <inertia ixx="5.42E-09" ixy="5.90E-09" ixz="-3.36E-09" iyy="1.03E-08" iyz="2.76E-09" izz="1.29E-08"/>
    </inertial>
    <visual>
      <origin xyz="0 0 0" rpy="0 0 0"/>
      <geometry>
        <mesh filename="coacd_convex_piece_37.obj" scale="1.0000E+00 1.0000E+00 1.0000E+00"/>
      </geometry>
      <material name="">
        <color rgba="7.50E-01 7.50E-01 7.50E-01 1"/>
      </material>
    </visual>
    <collision>
      <origin xyz="0 0 0" rpy="0 0 0"/>
      <geometry>
        <mesh filename="coacd_convex_piece_37.obj" scale="1.0000E+00 1.0000E+00 1.0000E+00"/>
      </geometry>
    </collision>
  </link>
  <joint name="link_coacd_convex_piece_37_joint" type="fixed">
    <origin xyz="0 0 0" rpy="0 0 0"/>
    <parent link="link_coacd_convex_piece_36"/>
    <child link="link_coacd_convex_piece_37"/>
  </joint>
  <link name="link_coacd_convex_piece_38">
    <inertial>
      <origin xyz="0 0 0" rpy="0 0 0"/>
      <inertia ixx="8.12E-09" ixy="-7.50E-09" ixz="-4.06E-09" iyy="1.19E-08" iyz="-3.81E-09" izz="1.59E-08"/>
    </inertial>
    <visual>
      <origin xyz="0 0 0" rpy="0 0 0"/>
      <geometry>
        <mesh filename="coacd_convex_piece_38.obj" scale="1.0000E+00 1.0000E+00 1.0000E+00"/>
      </geometry>
      <material name="">
        <color rgba="7.50E-01 7.50E-01 7.50E-01 1"/>
      </material>
    </visual>
    <collision>
      <origin xyz="0 0 0" rpy="0 0 0"/>
      <geometry>
        <mesh filename="coacd_convex_piece_38.obj" scale="1.0000E+00 1.0000E+00 1.0000E+00"/>
      </geometry>
    </collision>
  </link>
  <joint name="link_coacd_convex_piece_38_joint" type="fixed">
    <origin xyz="0 0 0" rpy="0 0 0"/>
    <parent link="link_coacd_convex_piece_37"/>
    <child link="link_coacd_convex_piece_38"/>
  </joint>
  <link name="link_coacd_convex_piece_39">
    <inertial>
      <origin xyz="0 0 0" rpy="0 0 0"/>
      <inertia ixx="2.99E-10" ixy="1.53E-10" ixz="7.52E-10" iyy="1.17E-09" iyz="-6.69E-11" izz="9.33E-10"/>
    </inertial>
    <visual>
      <origin xyz="0 0 0" rpy="0 0 0"/>
      <geometry>
        <mesh filename="coacd_convex_piece_39.obj" scale="1.0000E+00 1.0000E+00 1.0000E+00"/>
      </geometry>
      <material name="">
        <color rgba="7.50E-01 7.50E-01 7.50E-01 1"/>
      </material>
    </visual>
    <collision>
      <origin xyz="0 0 0" rpy="0 0 0"/>
      <geometry>
        <mesh filename="coacd_convex_piece_39.obj" scale="1.0000E+00 1.0000E+00 1.0000E+00"/>
      </geometry>
    </collision>
  </link>
  <joint name="link_coacd_convex_piece_39_joint" type="fixed">
    <origin xyz="0 0 0" rpy="0 0 0"/>
    <parent link="link_coacd_convex_piece_38"/>
    <child link="link_coacd_convex_piece_39"/>
  </joint>
  <link name="link_coacd_convex_piece_40">
    <inertial>
      <origin xyz="0 0 0" rpy="0 0 0"/>
      <inertia ixx="2.37E-10" ixy="9.23E-11" ixz="2.73E-11" iyy="-3.52E-11" iyz="2.96E-11" izz="2.92E-10"/>
    </inertial>
    <visual>
      <origin xyz="0 0 0" rpy="0 0 0"/>
      <geometry>
        <mesh filename="coacd_convex_piece_40.obj" scale="1.0000E+00 1.0000E+00 1.0000E+00"/>
      </geometry>
      <material name="">
        <color rgba="7.50E-01 7.50E-01 7.50E-01 1"/>
      </material>
    </visual>
    <collision>
      <origin xyz="0 0 0" rpy="0 0 0"/>
      <geometry>
        <mesh filename="coacd_convex_piece_40.obj" scale="1.0000E+00 1.0000E+00 1.0000E+00"/>
      </geometry>
    </collision>
  </link>
  <joint name="link_coacd_convex_piece_40_joint" type="fixed">
    <origin xyz="0 0 0" rpy="0 0 0"/>
    <parent link="link_coacd_convex_piece_39"/>
    <child link="link_coacd_convex_piece_40"/>
  </joint>
  <link name="link_coacd_convex_piece_41">
    <inertial>
      <origin xyz="0 0 0" rpy="0 0 0"/>
      <inertia ixx="4.38E-11" ixy="1.08E-10" ixz="1.72E-11" iyy="7.24E-11" iyz="1.67E-11" izz="2.04E-10"/>
    </inertial>
    <visual>
      <origin xyz="0 0 0" rpy="0 0 0"/>
      <geometry>
        <mesh filename="coacd_convex_piece_41.obj" scale="1.0000E+00 1.0000E+00 1.0000E+00"/>
      </geometry>
      <material name="">
        <color rgba="7.50E-01 7.50E-01 7.50E-01 1"/>
      </material>
    </visual>
    <collision>
      <origin xyz="0 0 0" rpy="0 0 0"/>
      <geometry>
        <mesh filename="coacd_convex_piece_41.obj" scale="1.0000E+00 1.0000E+00 1.0000E+00"/>
      </geometry>
    </collision>
  </link>
  <joint name="link_coacd_convex_piece_41_joint" type="fixed">
    <origin xyz="0 0 0" rpy="0 0 0"/>
    <parent link="link_coacd_convex_piece_40"/>
    <child link="link_coacd_convex_piece_41"/>
  </joint>
</robot>
